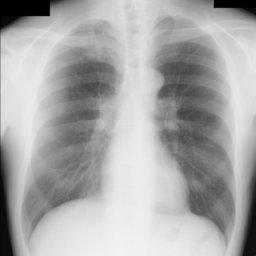left lobe: (154, 17, 235, 234)
right lobe: (24, 21, 122, 236)
